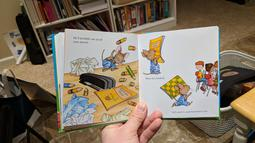text block: (70, 34, 104, 46), (167, 107, 209, 113), (143, 75, 164, 80)
